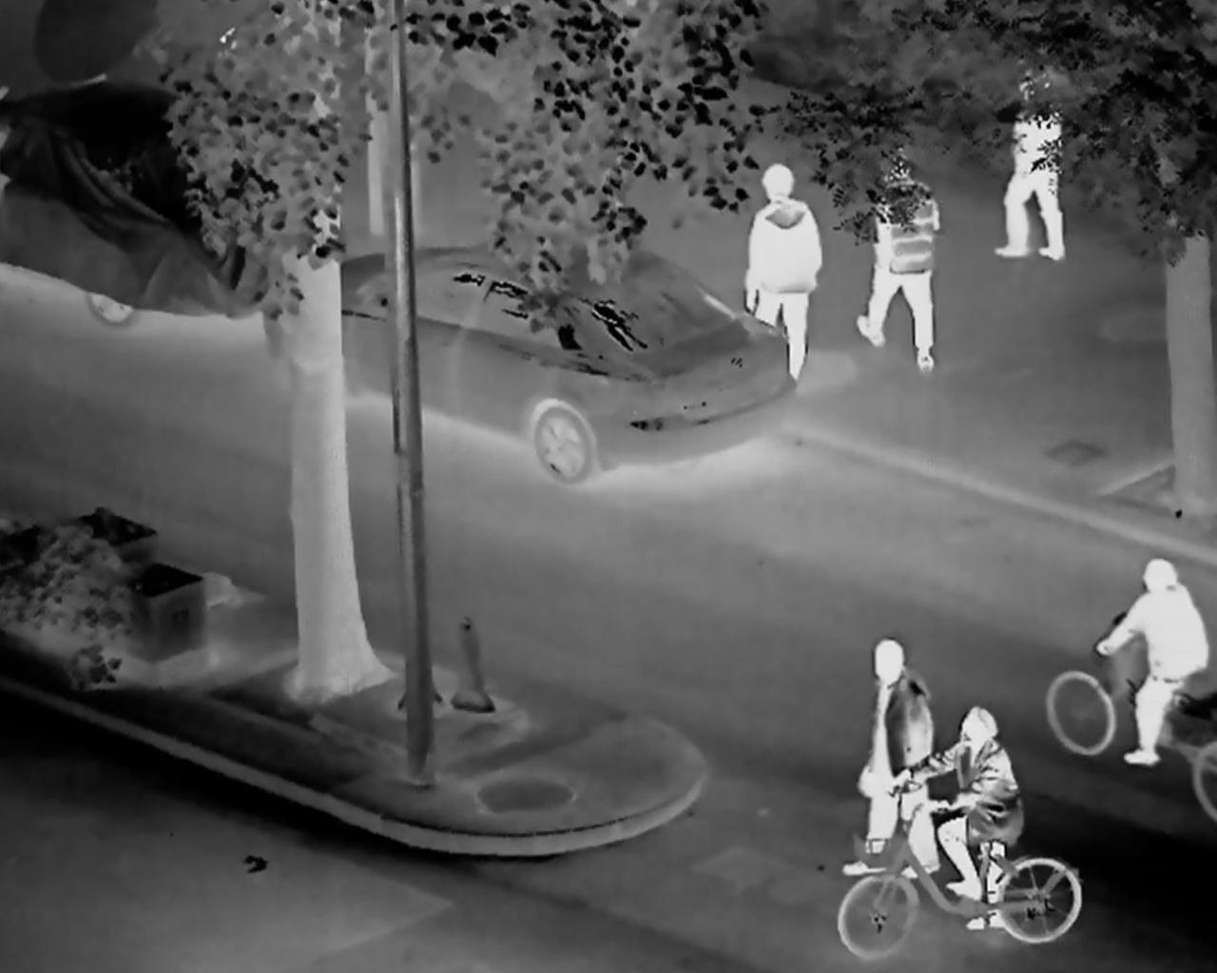person: (894, 707, 1025, 930), (1097, 557, 1207, 769), (843, 640, 938, 879), (856, 153, 944, 367), (745, 162, 823, 377), (996, 67, 1066, 266)
